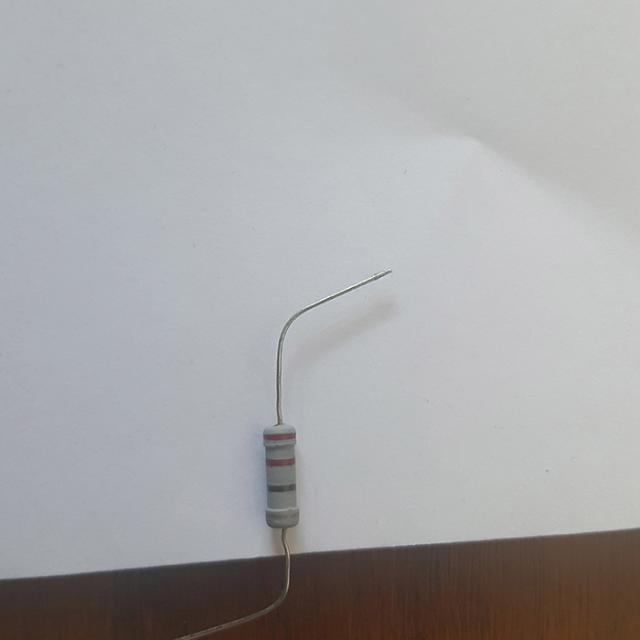brown: (267, 485, 296, 491)
gold: (267, 511, 298, 518)
red: (264, 432, 294, 439), (268, 458, 294, 465)
resistor: (251, 420, 307, 539)
